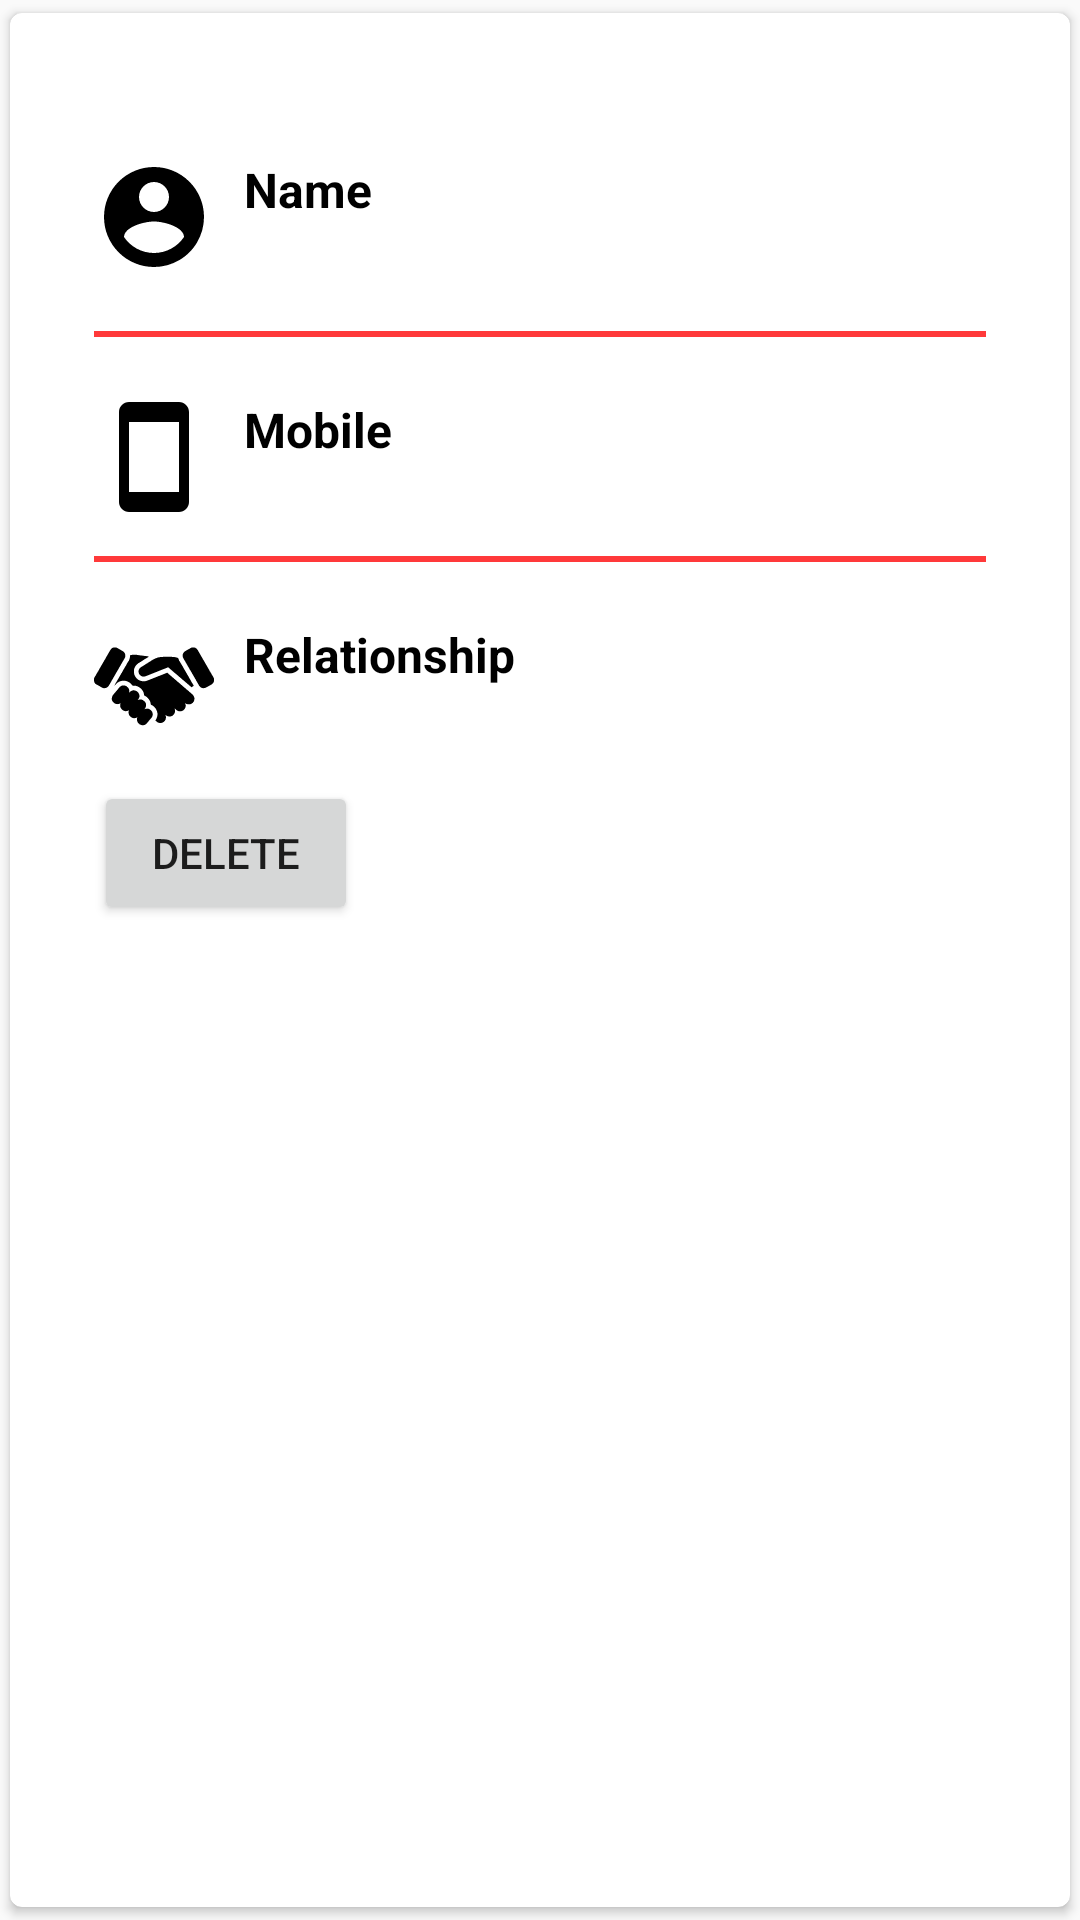

Screen size 1080 × 1920. Icon name, then its box in pixels as [x1, y1, x2, y2]:
personal details: [104, 167, 204, 267]
